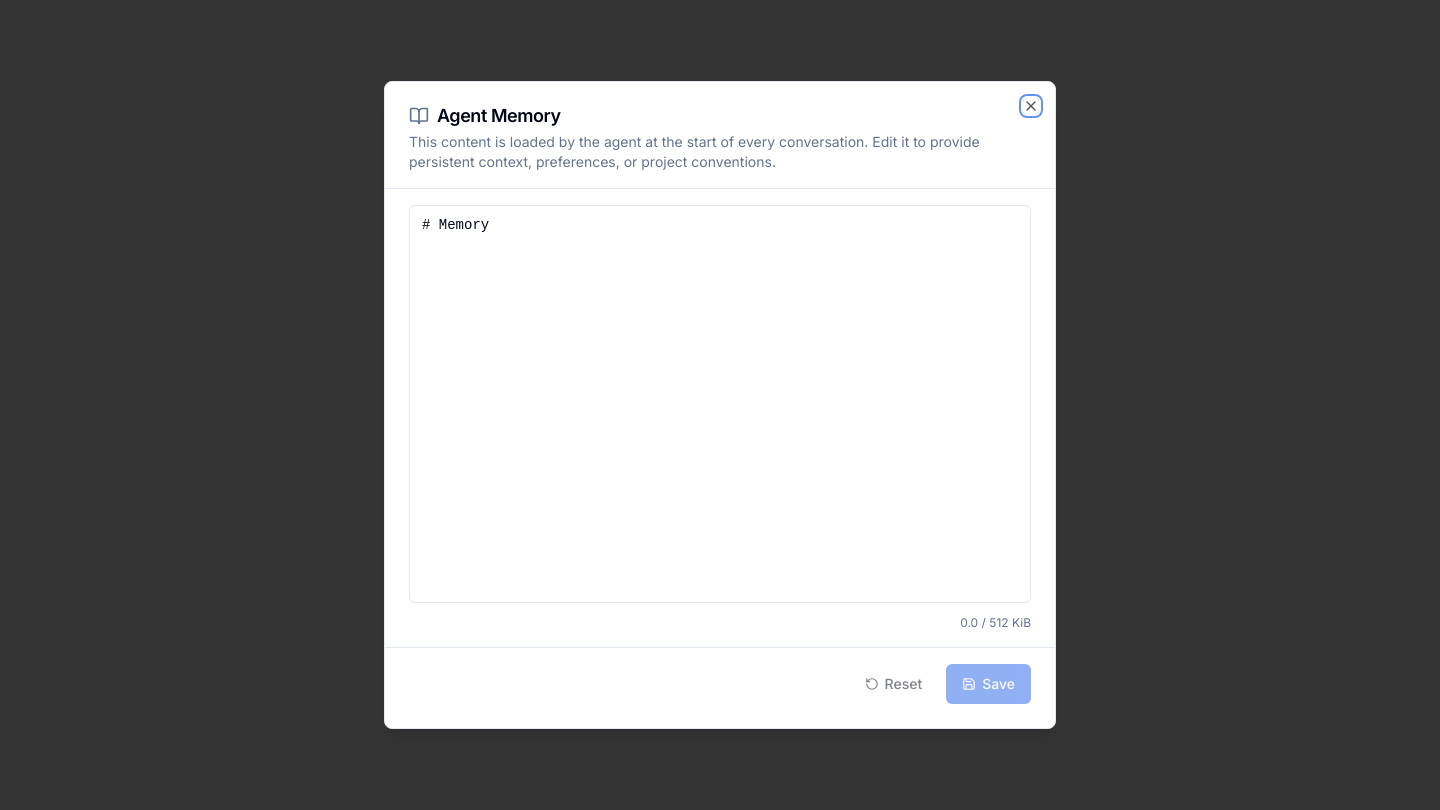
Test case: MemoryModal › resets content to last saved state when Reset is clicked
Replace the text in the text box named "agent memory content" with "Different content" at (720, 404), box 409,205 -> 1031,603
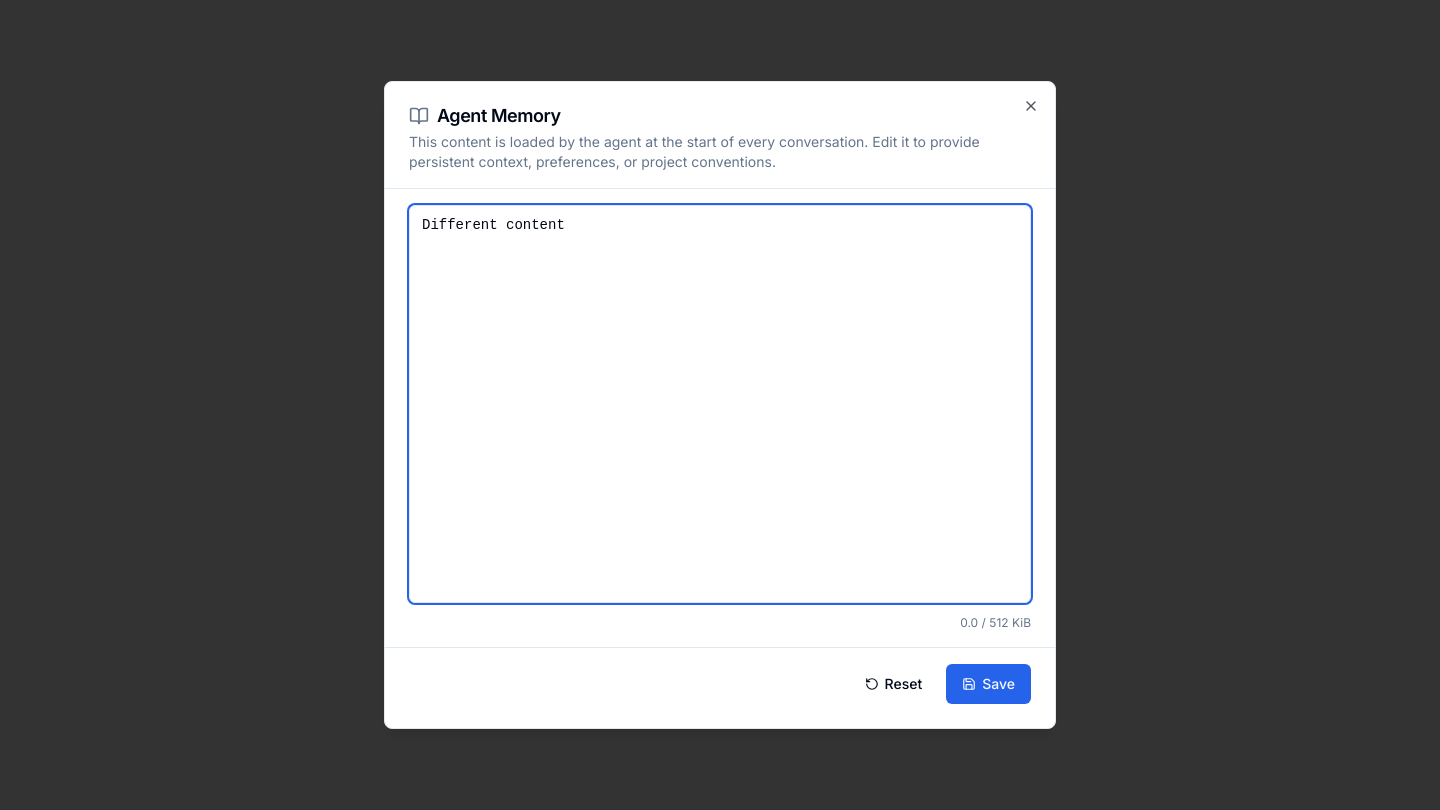
Click the button "Reset" at (893, 684), box 849,664 -> 938,704
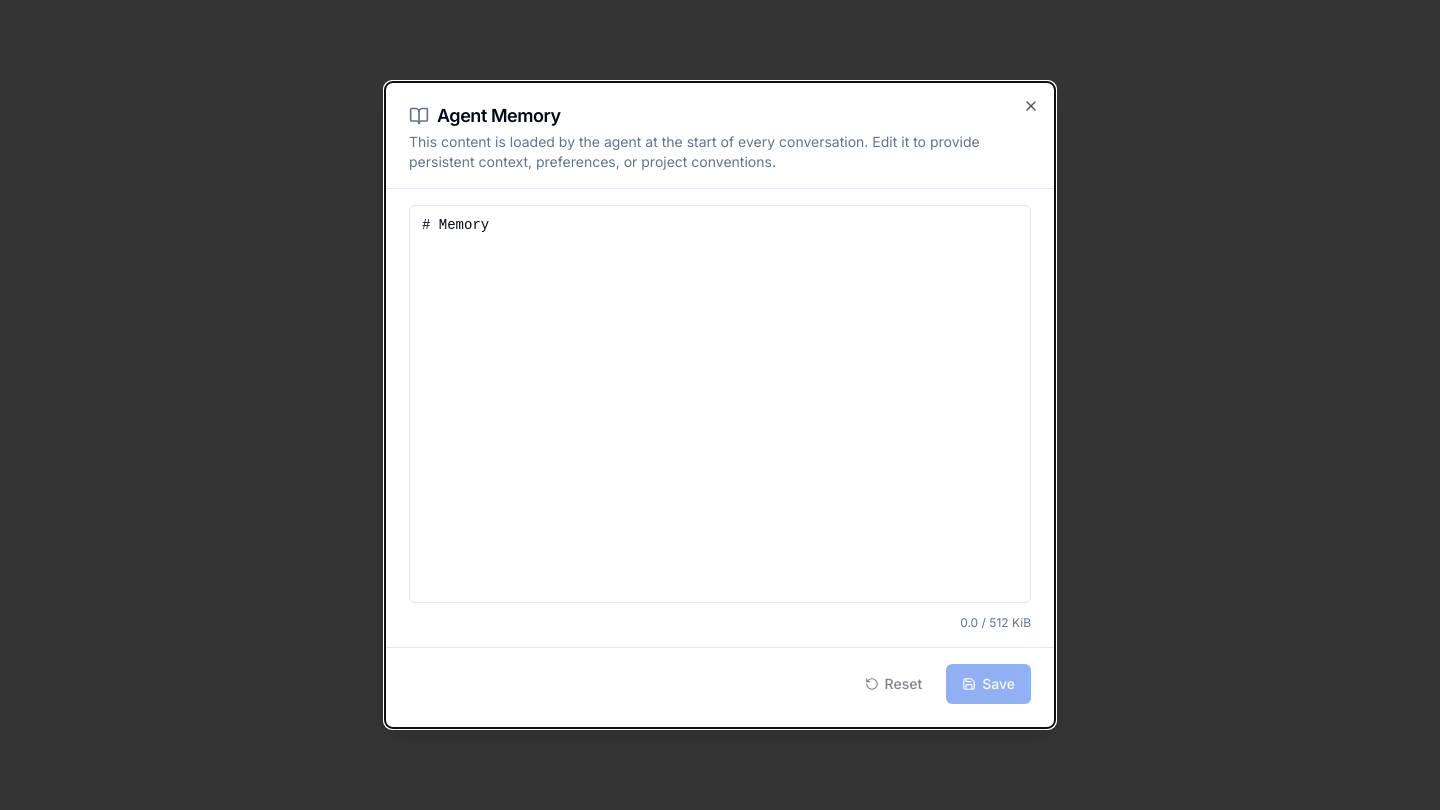
Expected: the text box named "agent memory content" holds "# Memory", 409,205 -> 1031,603
